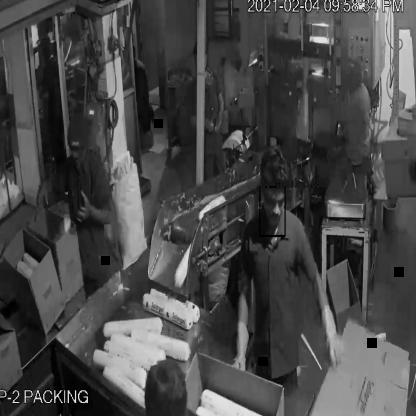glove: (216, 310, 262, 384), (309, 288, 348, 374)
no_glove: (66, 184, 118, 238), (22, 173, 66, 216), (212, 85, 227, 136)
